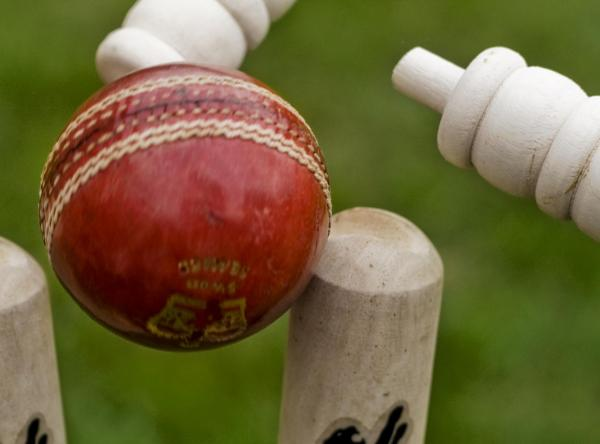red ball: (36, 59, 335, 353)
